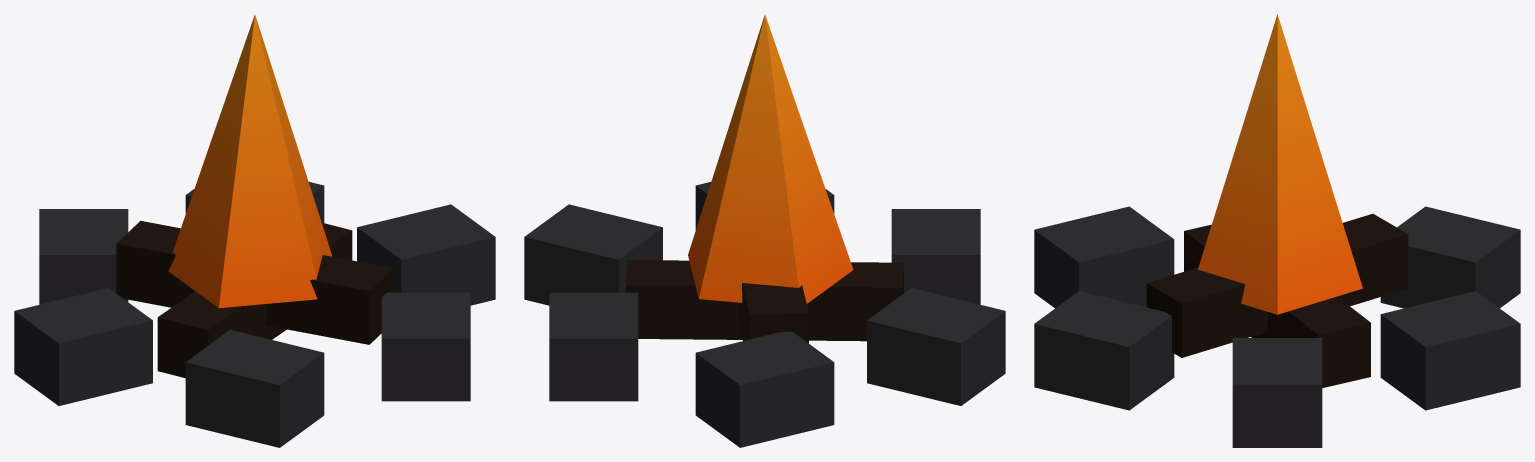
Rendered from campfire.glb.
3 views of the same model, side by side, from view 1: azimuth 30°, elevation 25°; view 2: azimuth 150°, elevation 25°; view 3: azimuth 270°, elevation 25° (orthographic).
Visible parts, largest first — view 1: campfire2; view 2: campfire2; view 3: campfire2.
Boxes of the visible parts, box(x1,y1,x2,y2) form: campfire2: box(14, 14, 495, 447); campfire2: box(524, 14, 1005, 447); campfire2: box(1034, 14, 1520, 447).
Bounding box in the file's own units: 0.51 × 0.36 × 0.4867.
